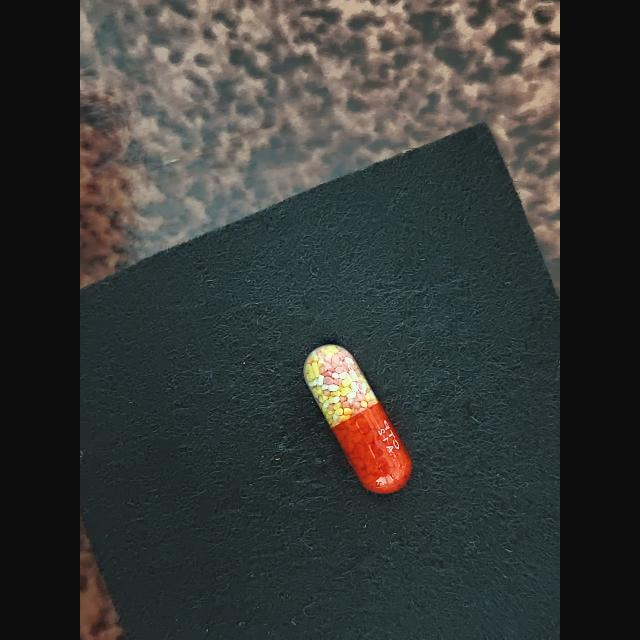Intact Capsule: (303, 344, 412, 494)
